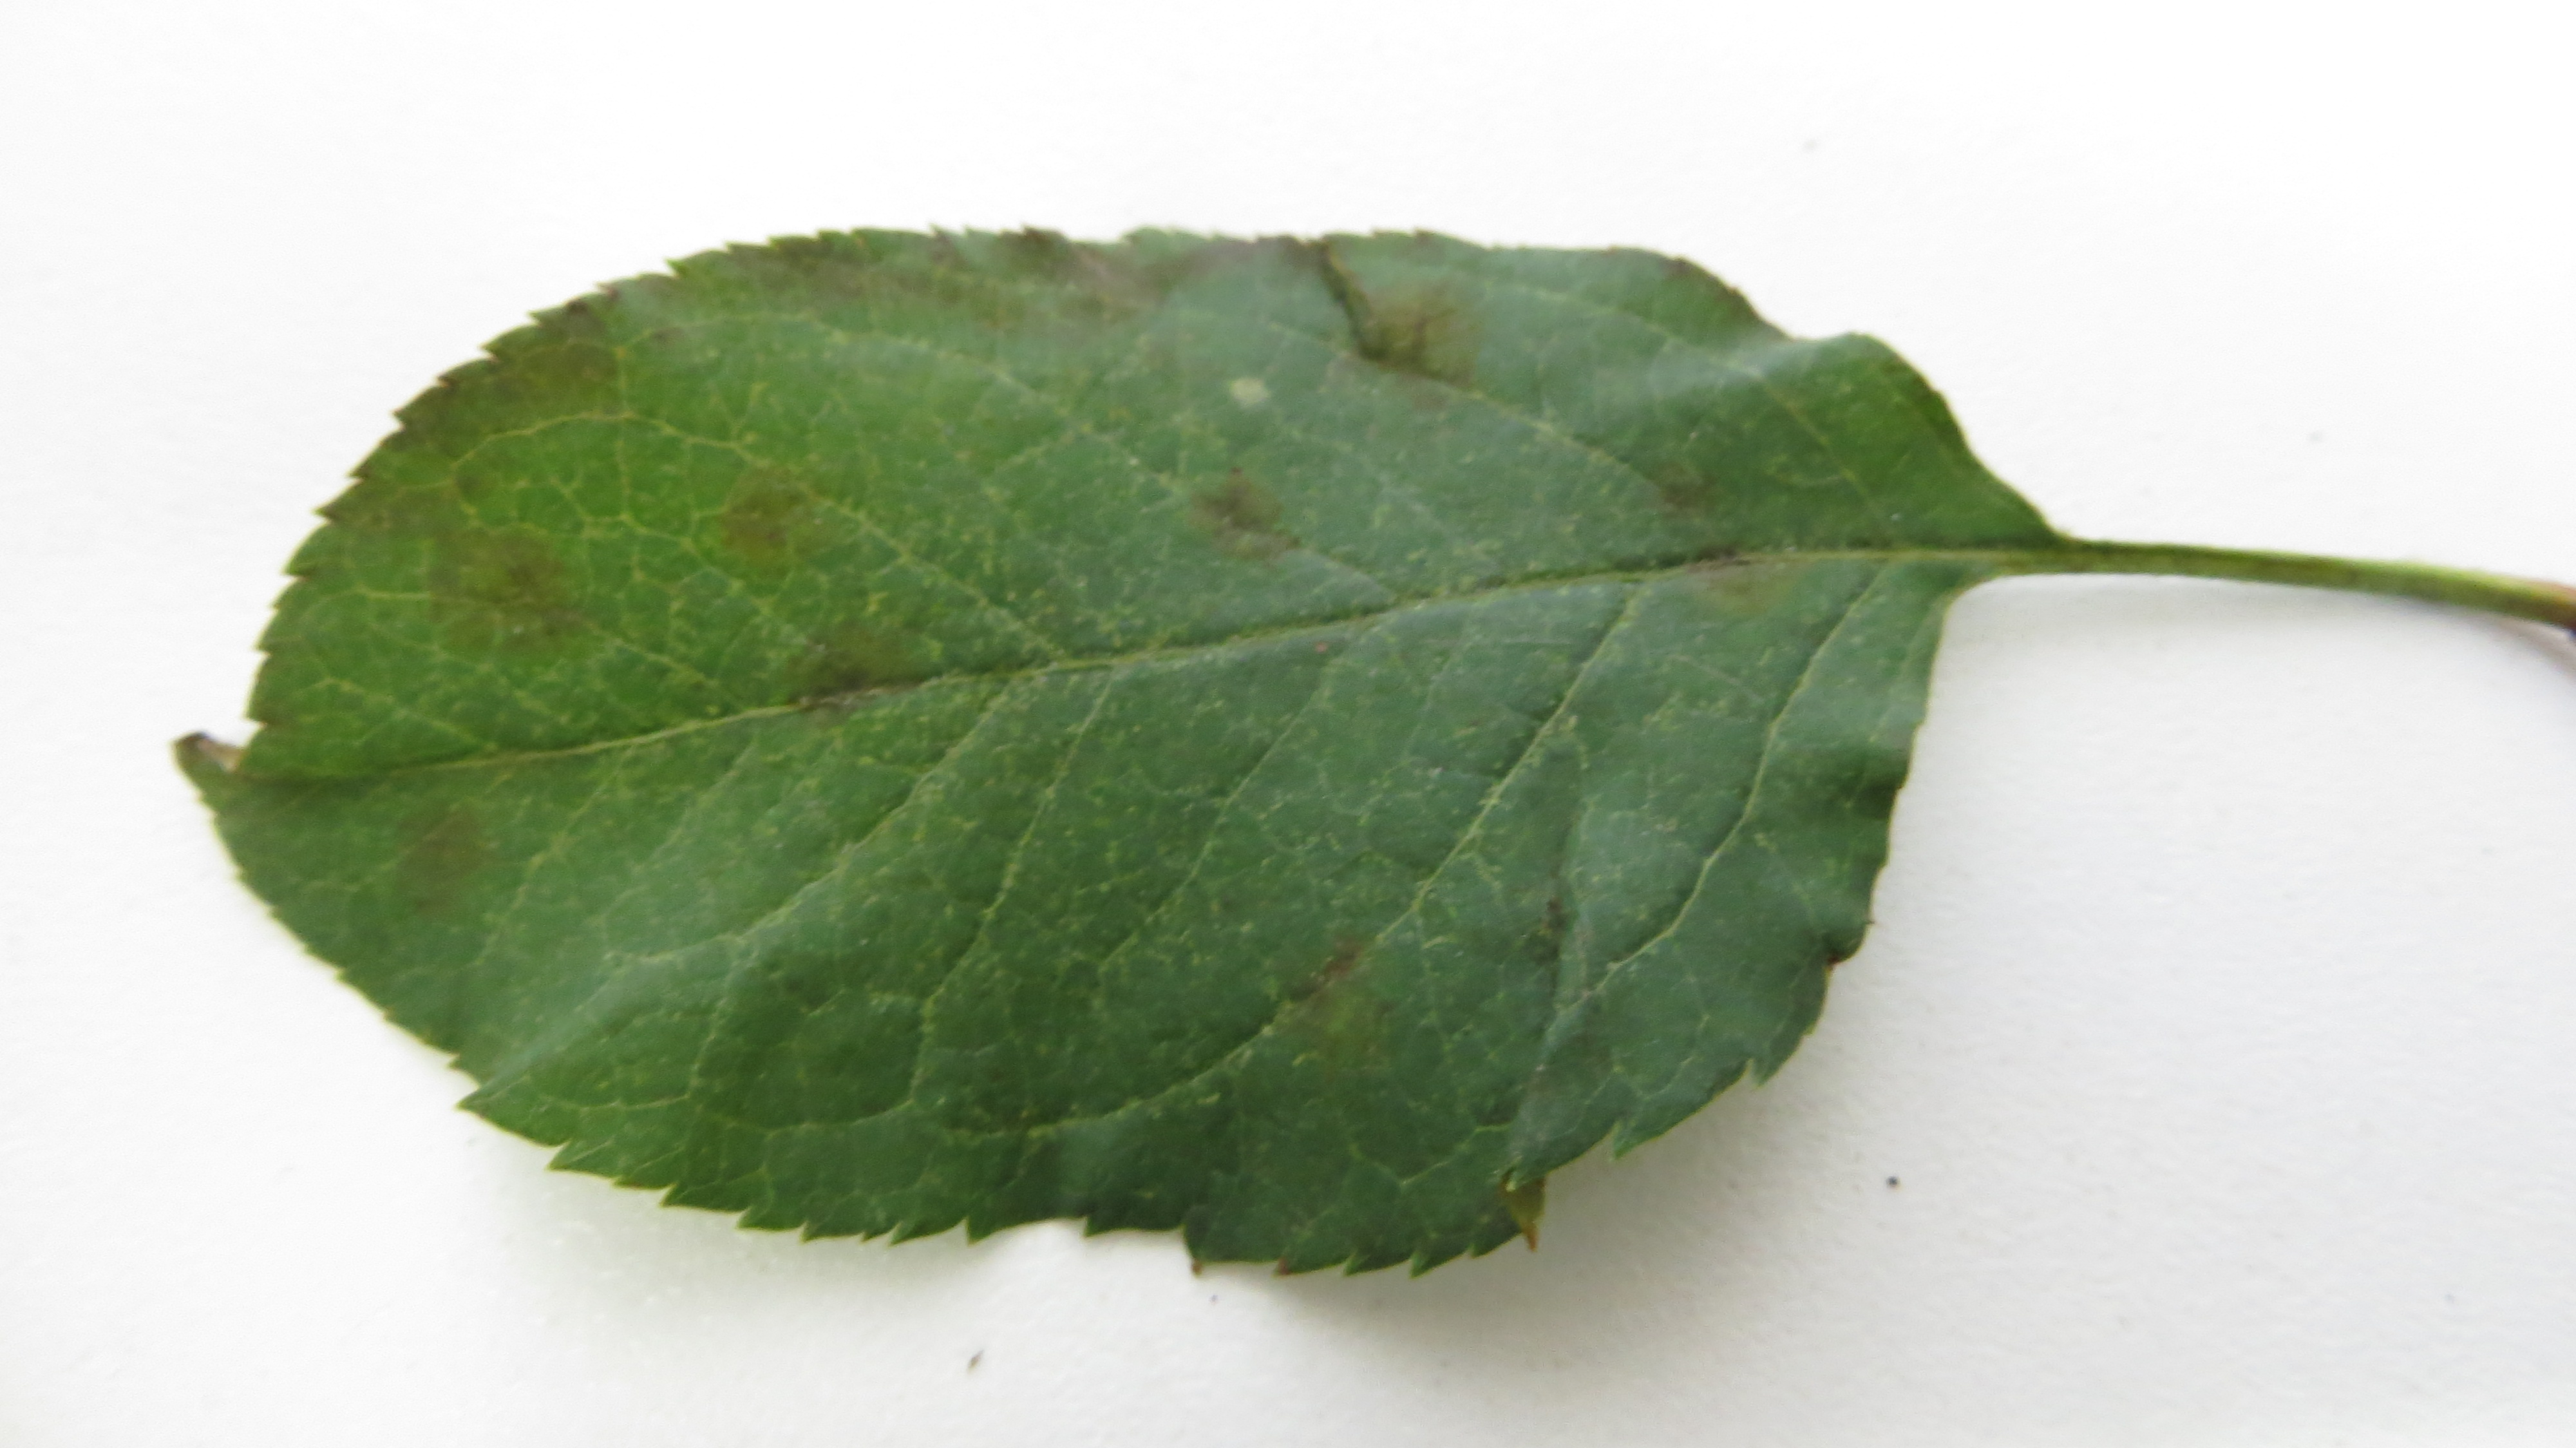sarna: (971, 212, 1231, 388), (1306, 241, 1520, 423), (421, 287, 648, 444), (771, 589, 973, 759), (752, 225, 964, 366), (426, 512, 591, 669), (368, 786, 533, 912), (697, 435, 837, 561), (1187, 450, 1311, 579), (1617, 416, 1737, 543), (1490, 867, 1603, 970), (1286, 897, 1385, 1011), (1681, 526, 1790, 618)
